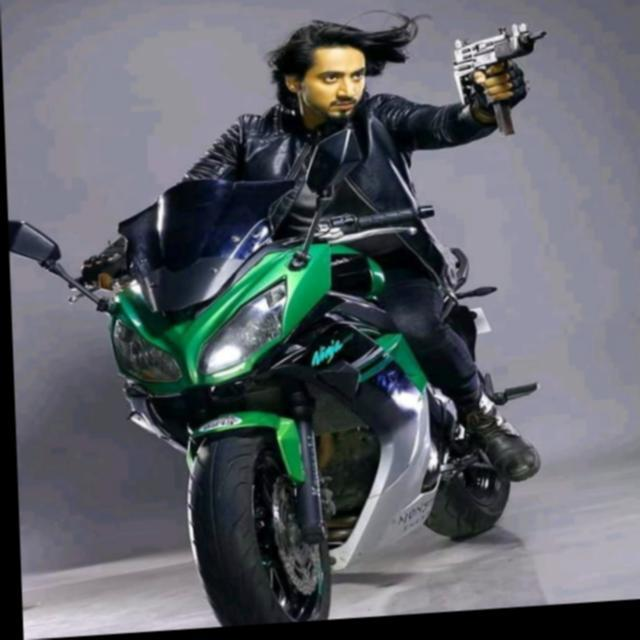weapon: (444, 26, 558, 150)
